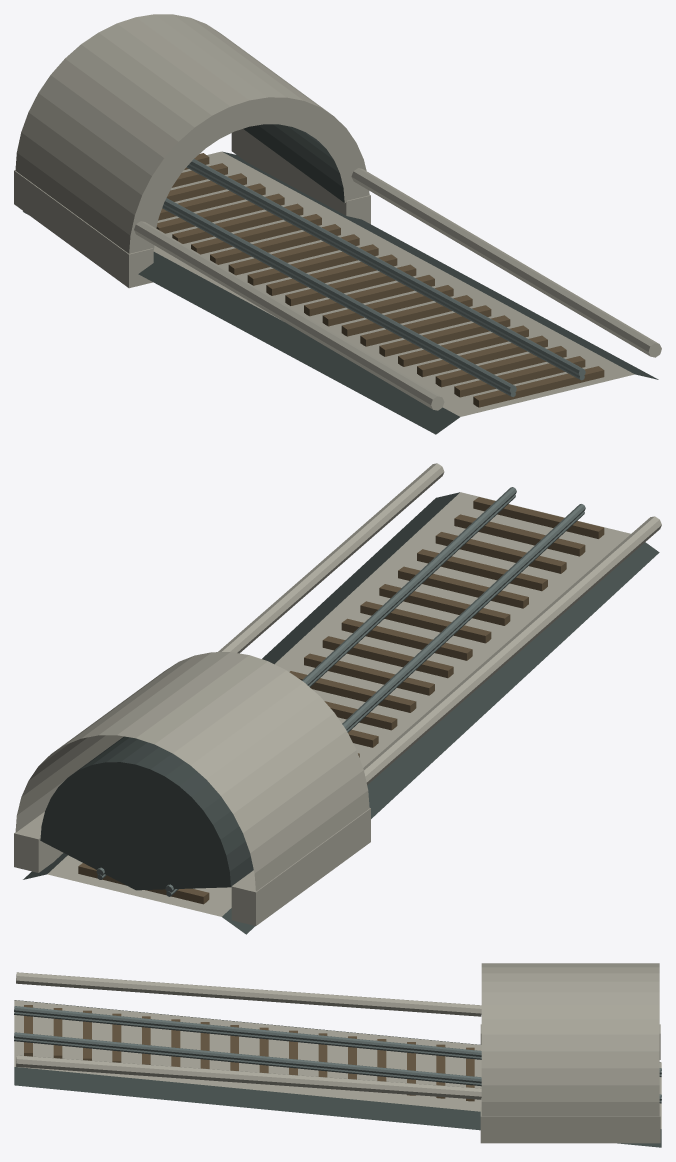
File: XBLD108.glb
3 renders of one model, top to bottom at view 1: azimuth 30°, elevation 25°; view 2: azimuth 150°, elevation 25°; view 3: azimuth 270°, elevation 25°, orthographic. The views are drawn at different scales.
Visible parts, largest first — view 1: 철도·지하철 전환 T; view 2: 철도·지하철 전환 T; view 3: 철도·지하철 전환 T.
Part boxes in pixels (box(x1,y1,x2,y2)): 철도·지하철 전환 T: box(14, 14, 661, 434); 철도·지하철 전환 T: box(14, 463, 661, 934); 철도·지하철 전환 T: box(14, 963, 661, 1147).
Size of the model in its own units: 5.41 by 3.59 by 16.02.
